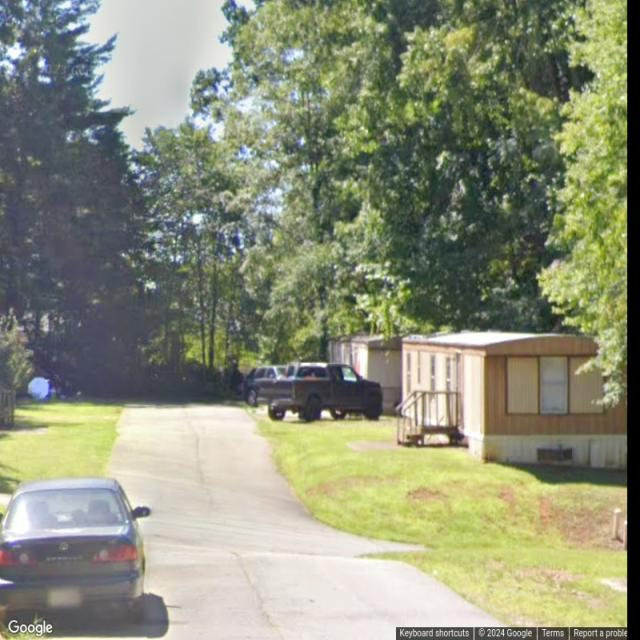House: (402, 328, 626, 464), (327, 336, 402, 415)
